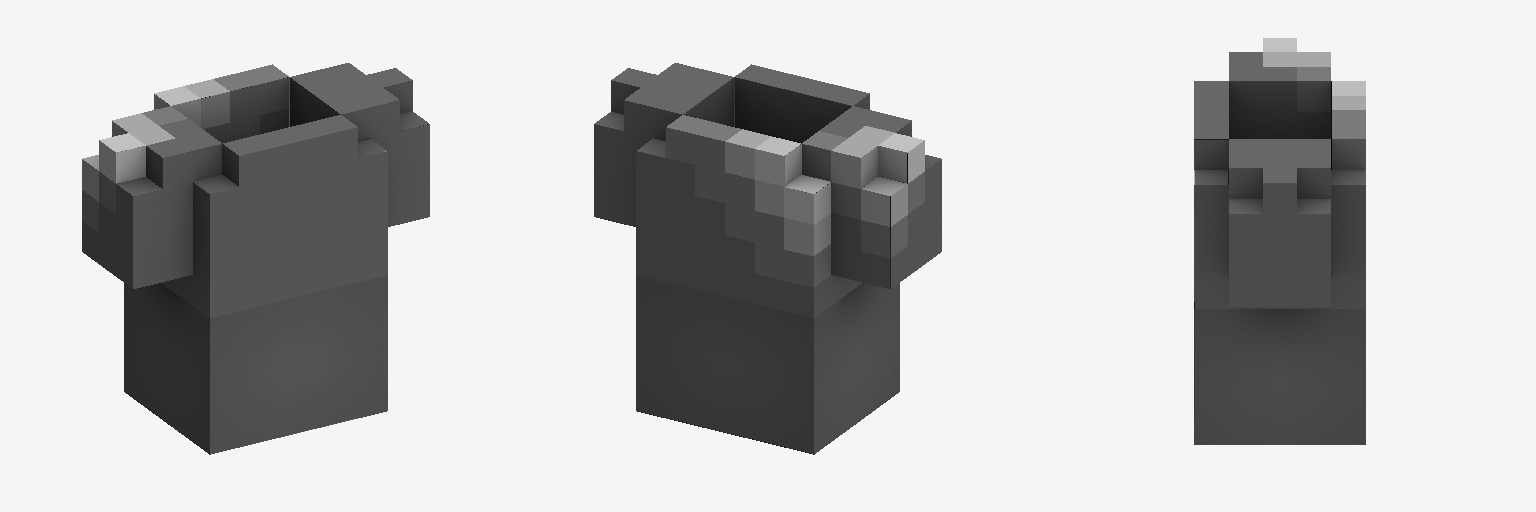
3 views of the same model, side by side, from view 1: azimuth 30°, elevation 25°; view 2: azimuth 150°, elevation 25°; view 3: azimuth 270°, elevation 25° (orthographic).
Bounding box in the file's own units: 0.49 × 0.46 × 0.245.
1 materials, 1 textured.